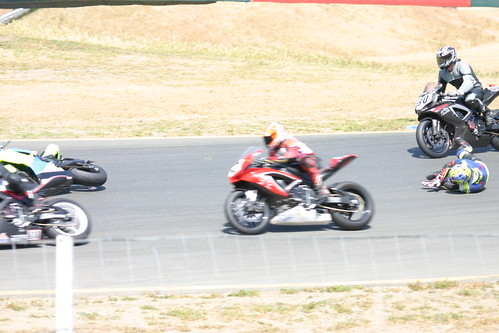helmet: (260, 121, 286, 147), (444, 161, 471, 184), (431, 45, 459, 67)
